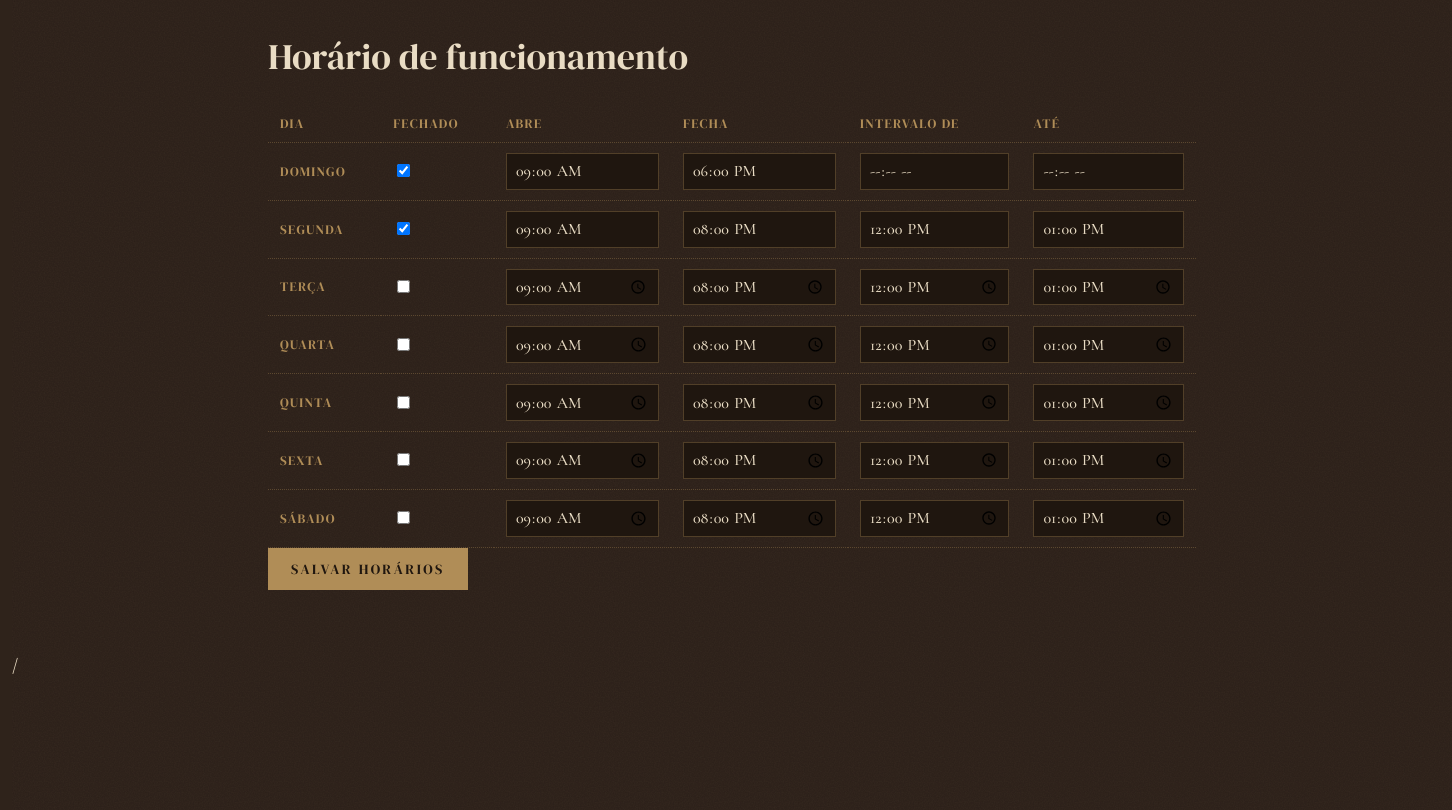
Test: BusinessHours › saves all rows in one PUT
Step 1. Replace the text in the time field named "Fecha (Sábado)" with "16:00" → (760, 518), box [683,500,836,537]
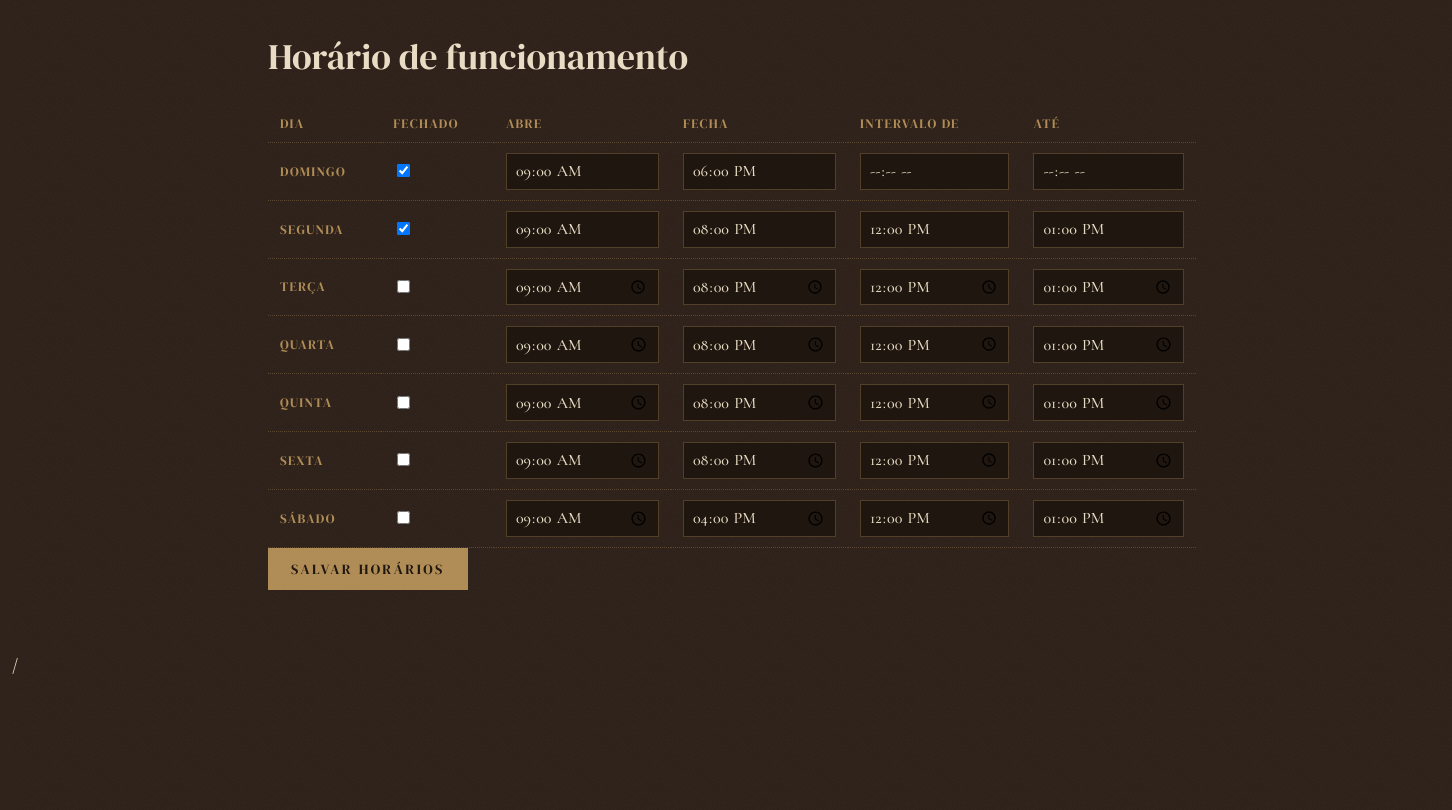
Step 2. Clear the time field named "Intervalo de (Sábado)" → (935, 518), box [860,500,1009,537]
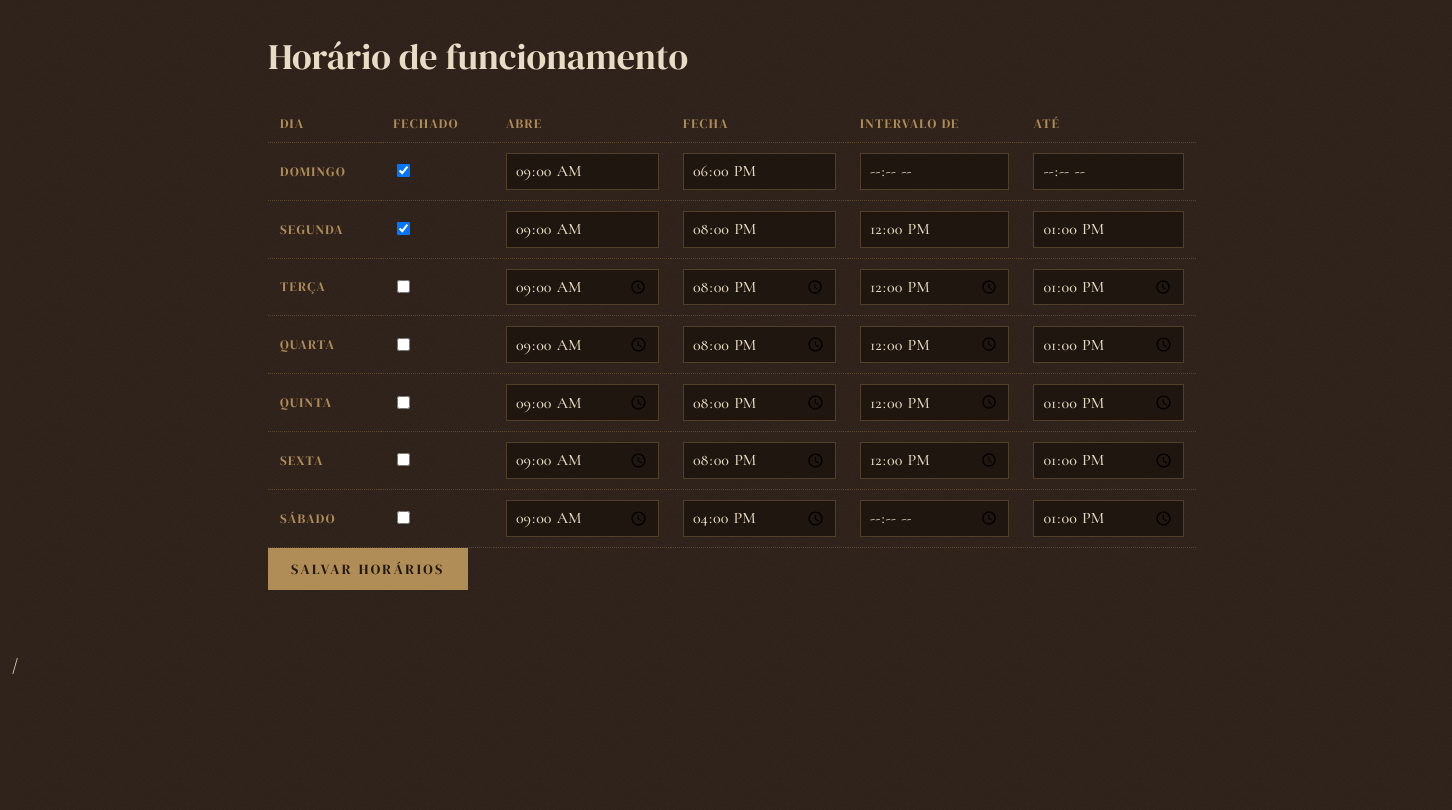
Step 3. Clear the time field named "Até (Sábado)" → (1109, 518), box [1033,500,1184,537]
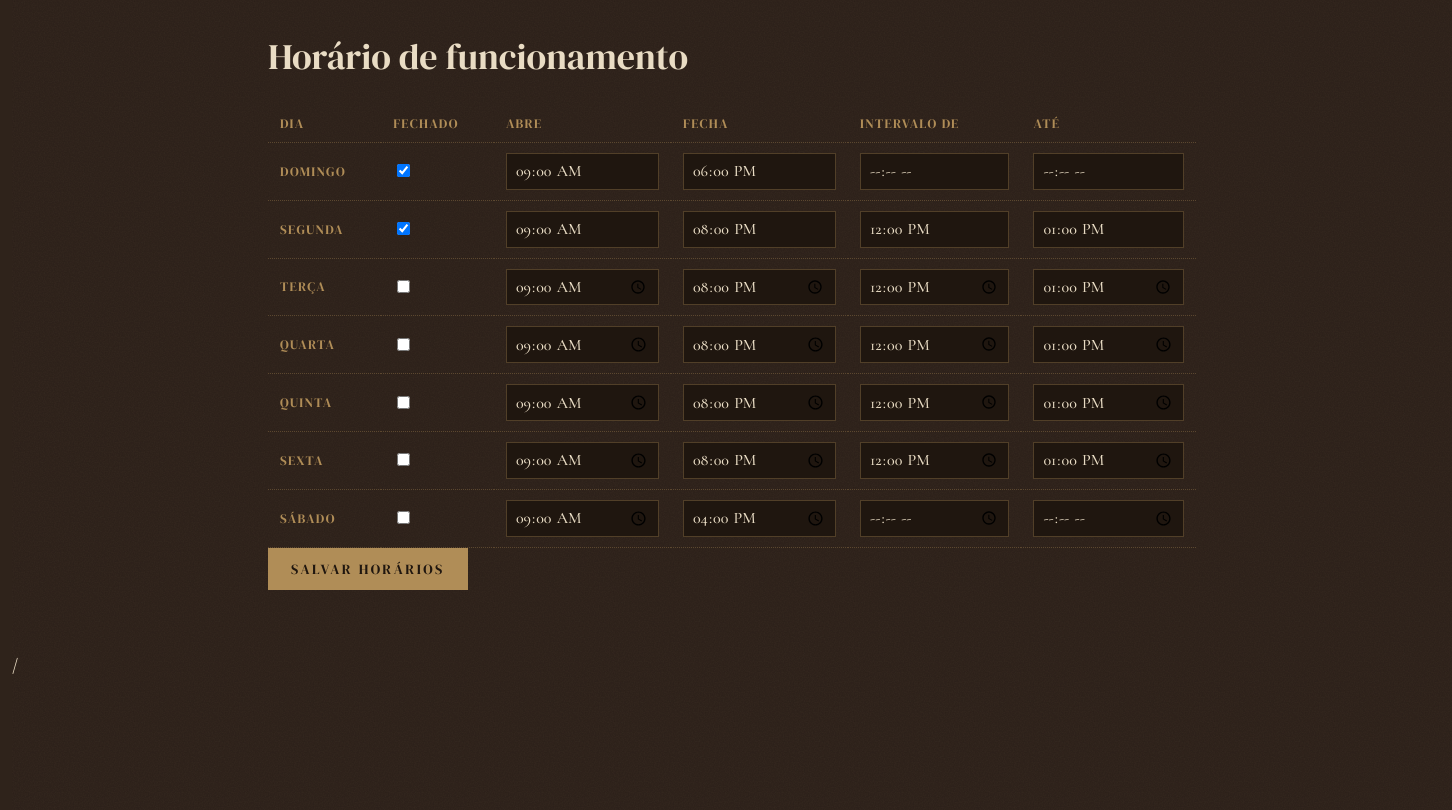
Step 4. Click the button "Salvar horários" → (368, 569), box [268,548,468,590]
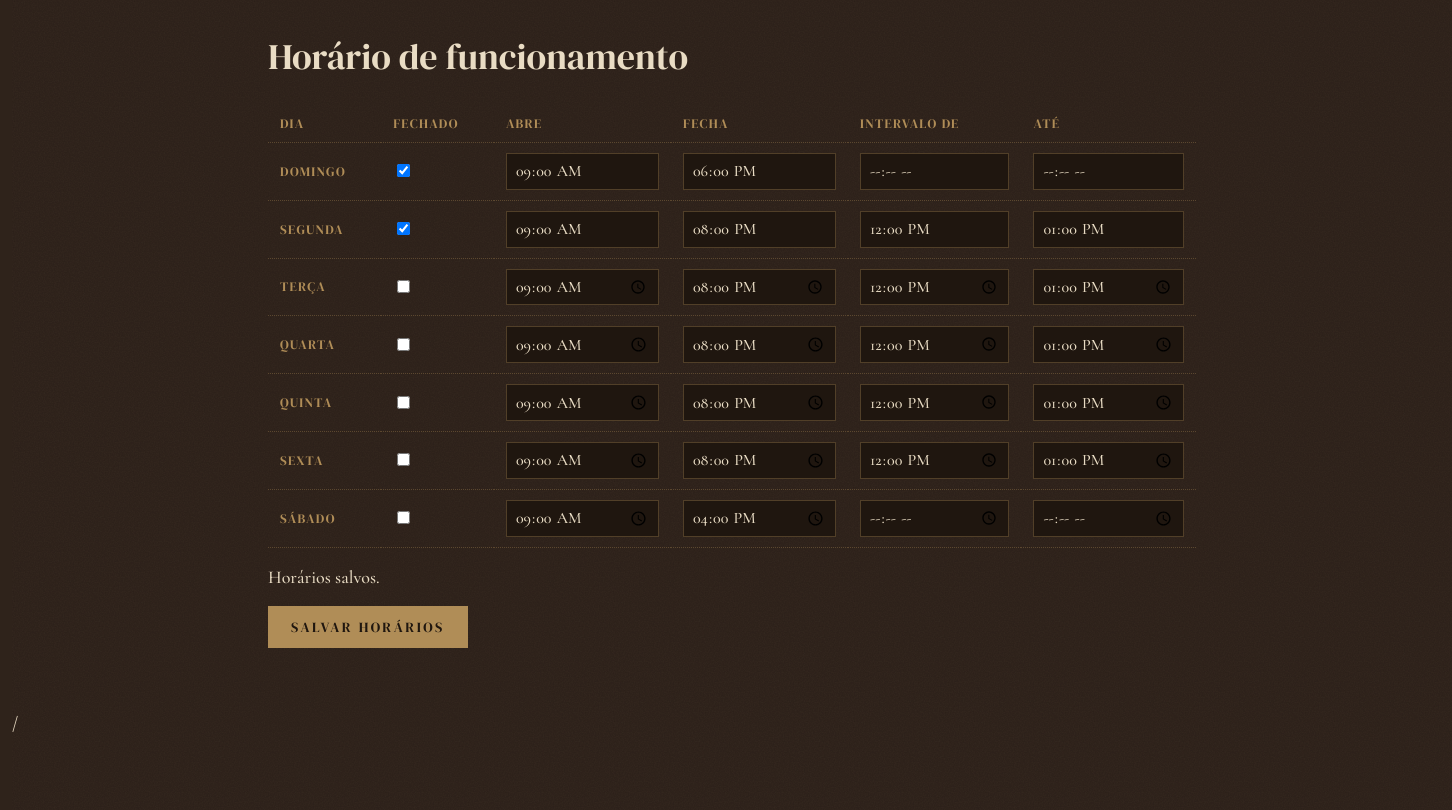
Now the message reads "Horários salvos.", box [268,566,380,588]
